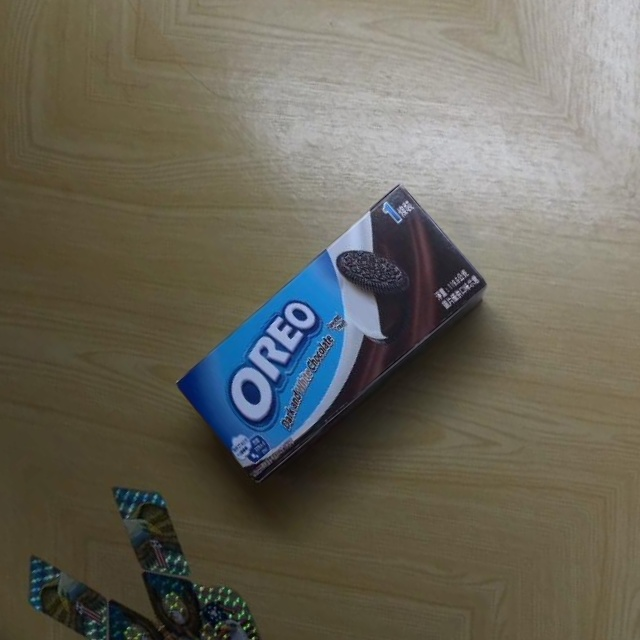Oreo: (162, 178, 494, 490)
